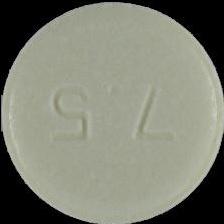35356-808: (0, 0, 224, 224)
